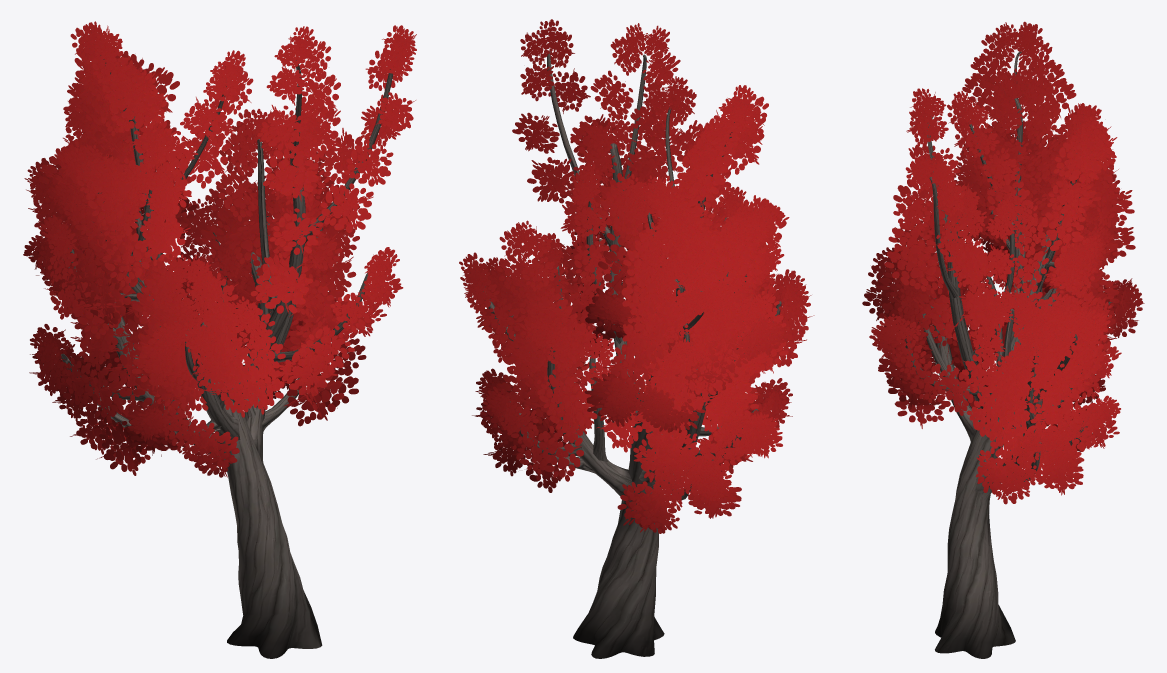
The model's file is sn_twisted_tree_2.glb.
3 views of the same model, side by side, from view 1: azimuth 30°, elevation 25°; view 2: azimuth 150°, elevation 25°; view 3: azimuth 270°, elevation 25° (orthographic). The views are drawn at different scales.
Parts seen in each view (by area): view 1: TwistedTree_2; view 2: TwistedTree_2; view 3: TwistedTree_2.
Boxes of the visible parts, x1,y1,x2,y2 form: TwistedTree_2: (23,21,416,658); TwistedTree_2: (459,19,814,658); TwistedTree_2: (862,21,1144,658).
Bounding box in the file's own units: 10.56 × 18.95 × 9.2.
2 materials, 2 textured.
